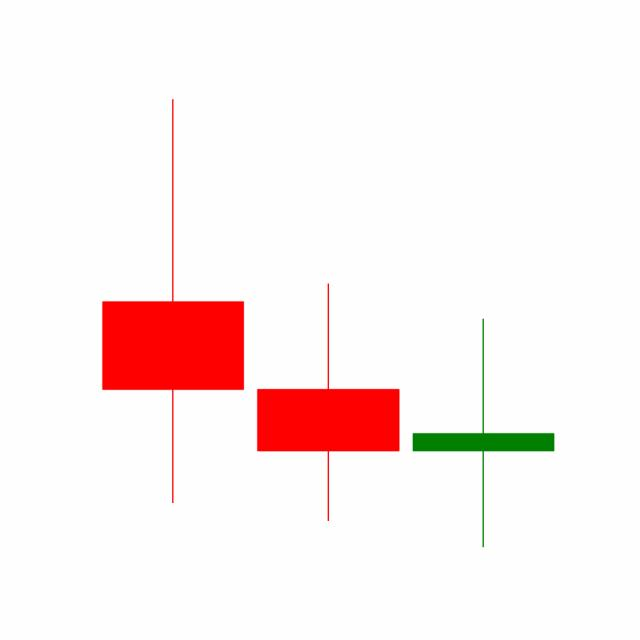Spinning Top: (405, 316, 561, 550)
